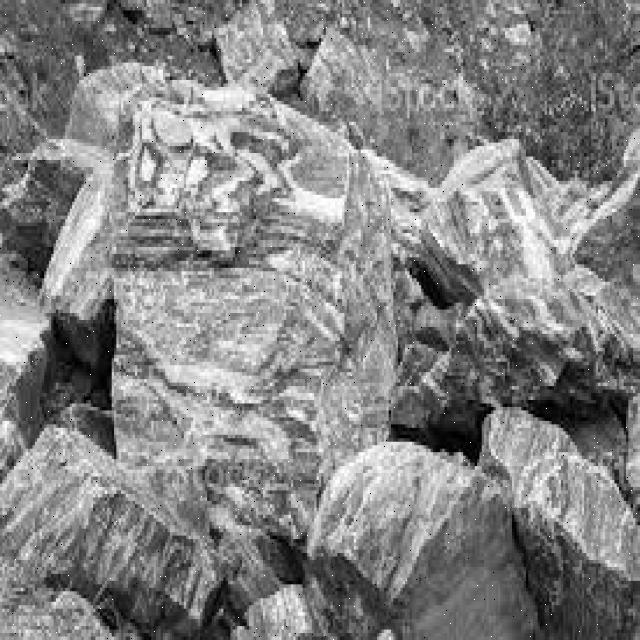Metamorphic: (2, 104, 633, 633)
